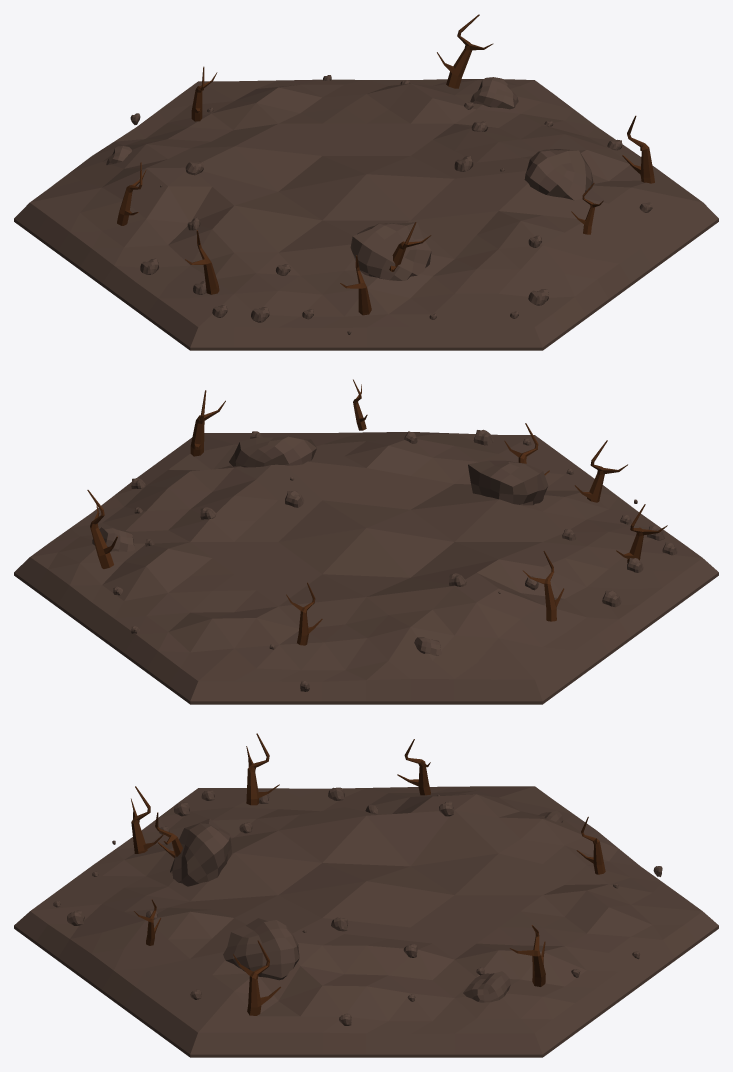
File: scorched.glb
3 views of the same model, one above another, from view 1: azimuth 30°, elevation 25°; view 2: azimuth 150°, elevation 25°; view 3: azimuth 270°, elevation 25° (orthographic).
Visible parts, largest first — view 1: land, small_details, big_details; view 2: land, small_details, big_details; view 3: land, small_details, big_details.
Boxes of the visible parts, x1,y1,x2,y2 form: land: (14,79,718,350); small_details: (106,75,652,334); big_details: (117,14,654,315); land: (14,432,718,704); small_details: (92,429,677,691); big_details: (87,379,667,645); land: (14,786,718,1057); small_details: (53,787,662,1025); big_details: (131,733,605,1015).
Bounding box in the file's own units: 1.73 × 0.3098 × 2.
